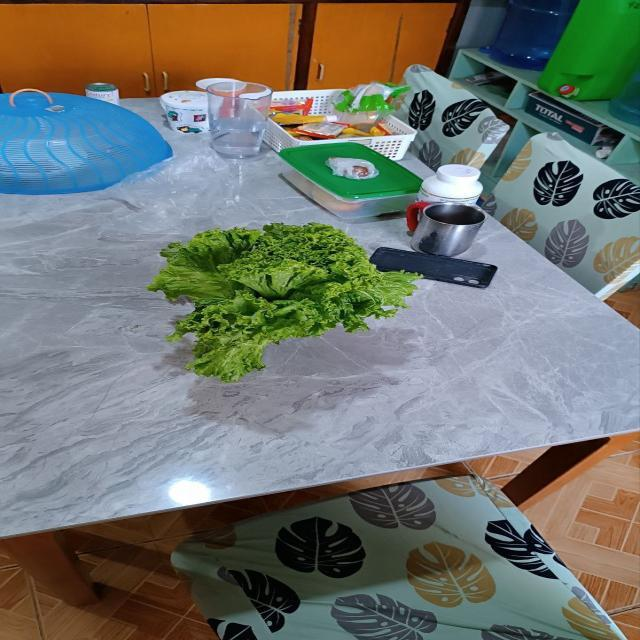Lettuce-Ready-to-Harvest: (148, 224, 418, 382)
